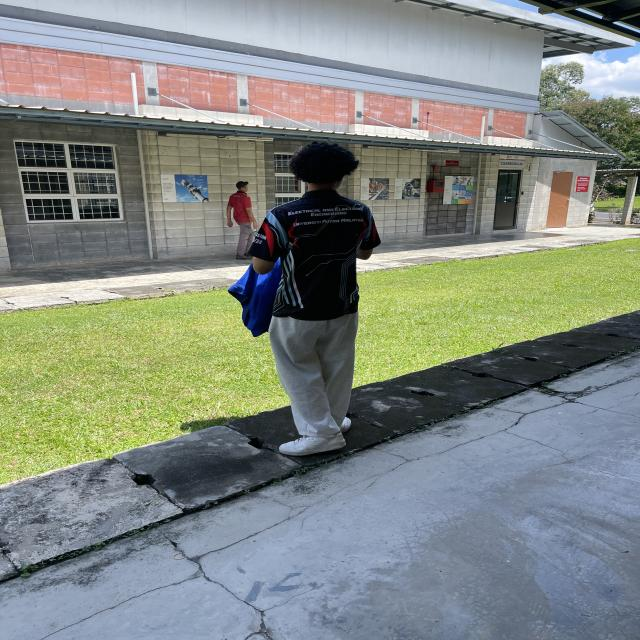person_without_labcoat: (230, 142, 380, 456)
